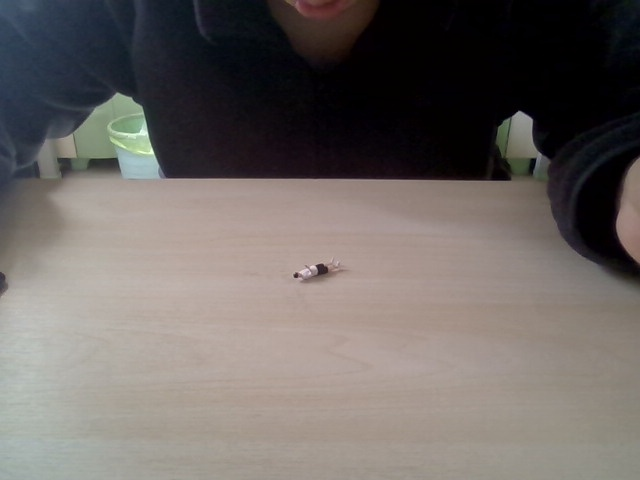fall: (287, 254, 345, 283)
